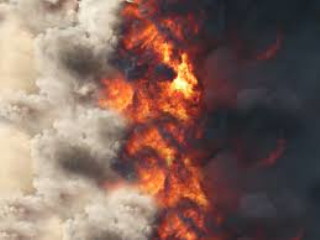fire: (133, 24, 212, 232)
smoke: (13, 9, 131, 233)
